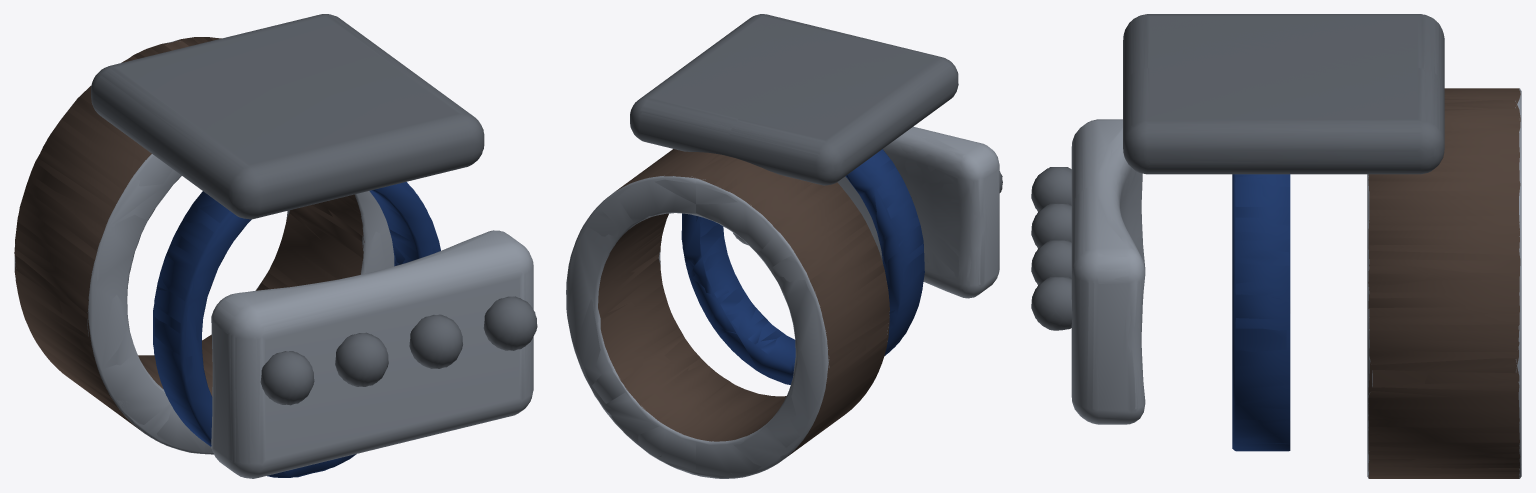
Rendered from fist.glb.
3 renders of one model, left to right at view 1: azimuth 30°, elevation 25°; view 2: azimuth 150°, elevation 25°; view 3: azimuth 270°, elevation 25°, orthographic. The views are drawn at different scales.
Parts seen in each view (by area): view 1: 拳甲, 拳甲L; view 2: 拳甲L, 拳甲; view 3: 拳甲, 拳甲L.
Boxes of the visible parts, left/top/right/bottom form: 拳甲: left=14, top=14, right=536, bottom=478; 拳甲L: left=14, top=14, right=537, bottom=478; 拳甲L: left=566, top=14, right=1002, bottom=478; 拳甲: left=566, top=14, right=1002, bottom=478; 拳甲: left=1031, top=14, right=1521, bottom=478; 拳甲L: left=1031, top=14, right=1521, bottom=478.
Size of the model in its own units: 0.114 by 0.1356 by 0.1526.
